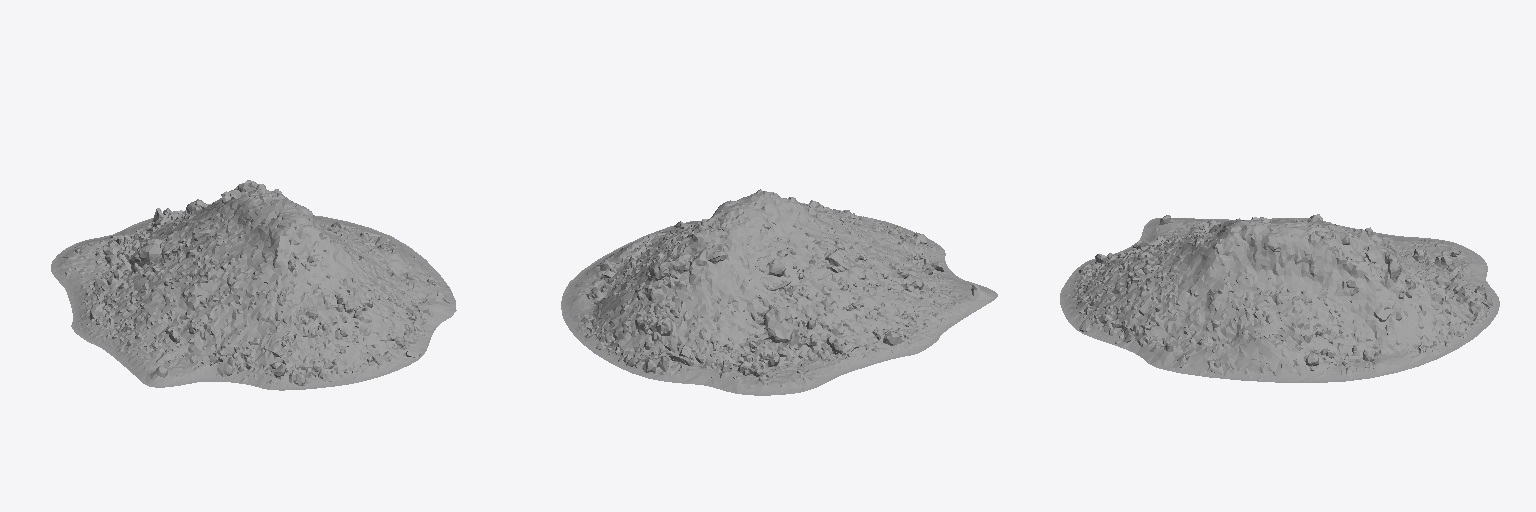
The model's file is clay0.obj.
The picture shows the model from 3 angles: view 1: azimuth 30°, elevation 25°; view 2: azimuth 150°, elevation 25°; view 3: azimuth 270°, elevation 25°; orthographic projection.
Parts seen in each view (by area): view 1: hromada_hlina_01_30k_Untitled; view 2: hromada_hlina_01_30k_Untitled; view 3: hromada_hlina_01_30k_Untitled.
Part boxes in pixels (x1,y1,x2,y2): hromada_hlina_01_30k_Untitled: (51, 180, 456, 390); hromada_hlina_01_30k_Untitled: (561, 189, 997, 395); hromada_hlina_01_30k_Untitled: (1060, 214, 1499, 382).
Size of the model in its own units: 16.34 by 4.07 by 18.35.